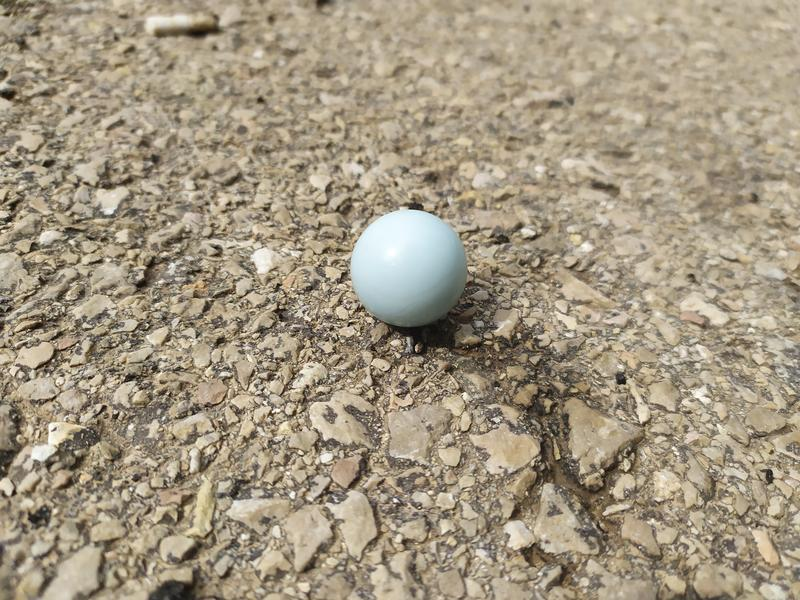Warning: (347, 207, 471, 329)
